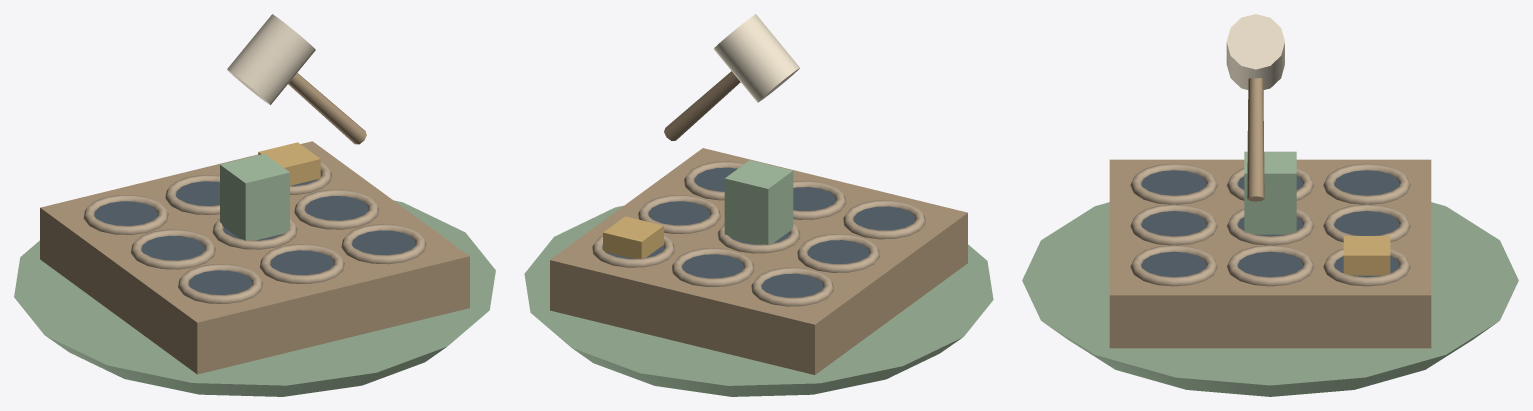
The model's file is party_mg32_whack_holes.glb.
The picture shows the model from 3 angles, left to right: view 1: azimuth 30°, elevation 25°; view 2: azimuth 150°, elevation 25°; view 3: azimuth 270°, elevation 25°; orthographic projection. The views are drawn at different scales.
Parts seen in each view (by area): view 1: _MeshInstance3D_209, _MeshInstance3D_208, _MeshInstance3D_221, _MeshInstance3D_232, _MeshInstance3D_223, _MeshInstance3D_218, _MeshInstance3D_211, _MeshInstance3D_225, _MeshInstance3D_227, _MeshInstance3D_229, _MeshInstance3D_231, _MeshInstance3D_216 (+10 smaller); view 2: _MeshInstance3D_209, _MeshInstance3D_208, _MeshInstance3D_221, _MeshInstance3D_232, _MeshInstance3D_216, _MeshInstance3D_211, _MeshInstance3D_225, _MeshInstance3D_213, _MeshInstance3D_218, _MeshInstance3D_231, _MeshInstance3D_223, _MeshInstance3D_224 (+10 smaller); view 3: _MeshInstance3D_209, _MeshInstance3D_208, _MeshInstance3D_232, _MeshInstance3D_221, _MeshInstance3D_231, _MeshInstance3D_216, _MeshInstance3D_227, _MeshInstance3D_229, _MeshInstance3D_211, _MeshInstance3D_225, _MeshInstance3D_223, _MeshInstance3D_226 (+9 smaller).
Boxes of the visible parts, box(x1,y1,x2,y2) form: _MeshInstance3D_209: box(40, 141, 469, 374); _MeshInstance3D_208: box(14, 200, 495, 396); _MeshInstance3D_221: box(220, 153, 289, 240); _MeshInstance3D_232: box(227, 14, 315, 104); _MeshInstance3D_223: box(294, 189, 379, 229); _MeshInstance3D_218: box(130, 229, 215, 269); _MeshInstance3D_211: box(83, 195, 168, 234); _MeshInstance3D_225: box(178, 264, 262, 303); _MeshInstance3D_227: box(259, 244, 344, 283); _MeshInstance3D_229: box(341, 224, 426, 264); _MeshInstance3D_231: box(288, 73, 366, 144); _MeshInstance3D_216: box(258, 142, 320, 185); _MeshInstance3D_209: box(550, 148, 967, 374); _MeshInstance3D_208: box(524, 205, 993, 396); _MeshInstance3D_221: box(724, 160, 793, 244); _MeshInstance3D_232: box(714, 14, 799, 102); _MeshInstance3D_216: box(603, 216, 663, 258); _MeshInstance3D_211: box(751, 267, 833, 306); _MeshInstance3D_225: box(843, 200, 925, 239); _MeshInstance3D_213: box(671, 248, 754, 286); _MeshInstance3D_218: box(797, 234, 879, 272); _MeshInstance3D_231: box(664, 71, 740, 140); _MeshInstance3D_223: box(638, 195, 720, 233); _MeshInstance3D_224: box(853, 206, 915, 230); _MeshInstance3D_209: box(1109, 159, 1431, 348); _MeshInstance3D_208: box(1022, 202, 1518, 396); _MeshInstance3D_232: box(1226, 14, 1284, 89); _MeshInstance3D_221: box(1244, 151, 1296, 234); _MeshInstance3D_231: box(1247, 78, 1264, 201); _MeshInstance3D_216: box(1343, 236, 1390, 275); _MeshInstance3D_227: box(1130, 204, 1217, 245); _MeshInstance3D_229: box(1130, 245, 1217, 286); _MeshInstance3D_211: box(1323, 163, 1410, 204); _MeshInstance3D_225: box(1130, 163, 1217, 204); _MeshInstance3D_223: box(1227, 245, 1313, 286); _MeshInstance3D_226: box(1141, 211, 1206, 236).
Size of the model in its own units: 3.4 by 2.25 by 3.4.
